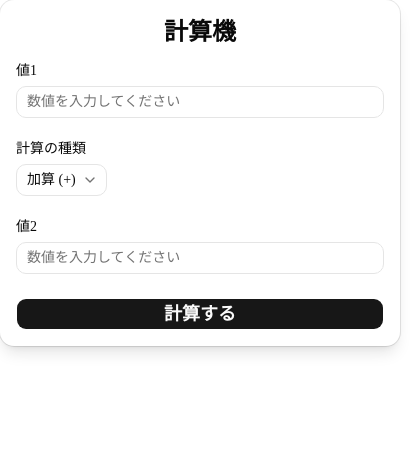
Test: Calc コンポーネントのテスト › 0除算を行った際にエラーメッセージが表示されること
Note: 値1に「10」を入力
In the number field labelled "値1": (200,102) [16,86,384,118], type "10"
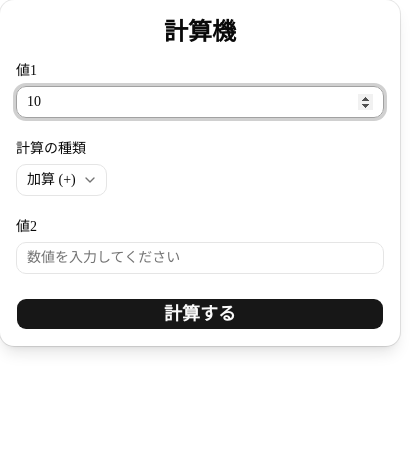
Note: トリガー（ボタン）をクリックしてドロップダウンメニューを開く
Click the dropdown named "計算の種類": (61,180) [16,164,107,196]
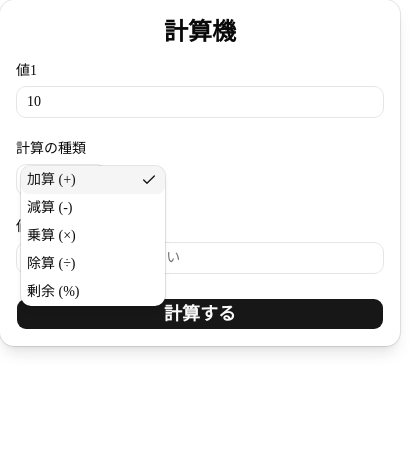
Note: メニューの中から「除算 (÷)」のオプションを探してクリックする
Click the option "除算 (÷)": (51,264) [27,256,76,271]
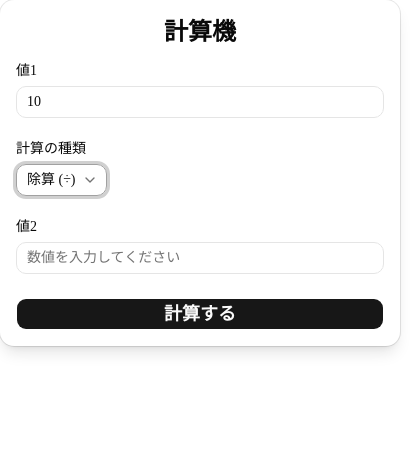
Note: 値2に「0」を入力して計算ボタンを押す
In the number field labelled "値2": (200,258) [16,242,384,274], type "0"
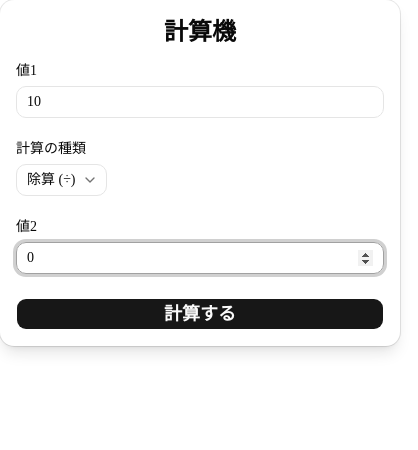
Click the button "計算する": (200,314) [16,298,384,330]
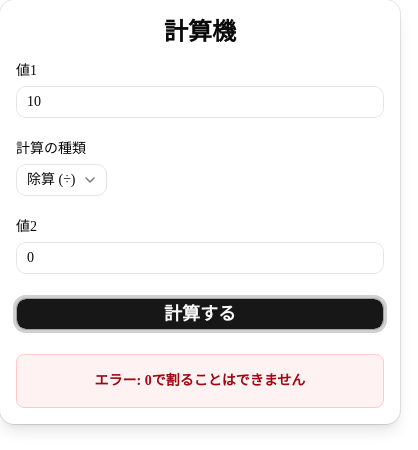
Check: the text with test id "error-display" reads "エラー: 0で割ることはできません", box [95,373,305,388]
